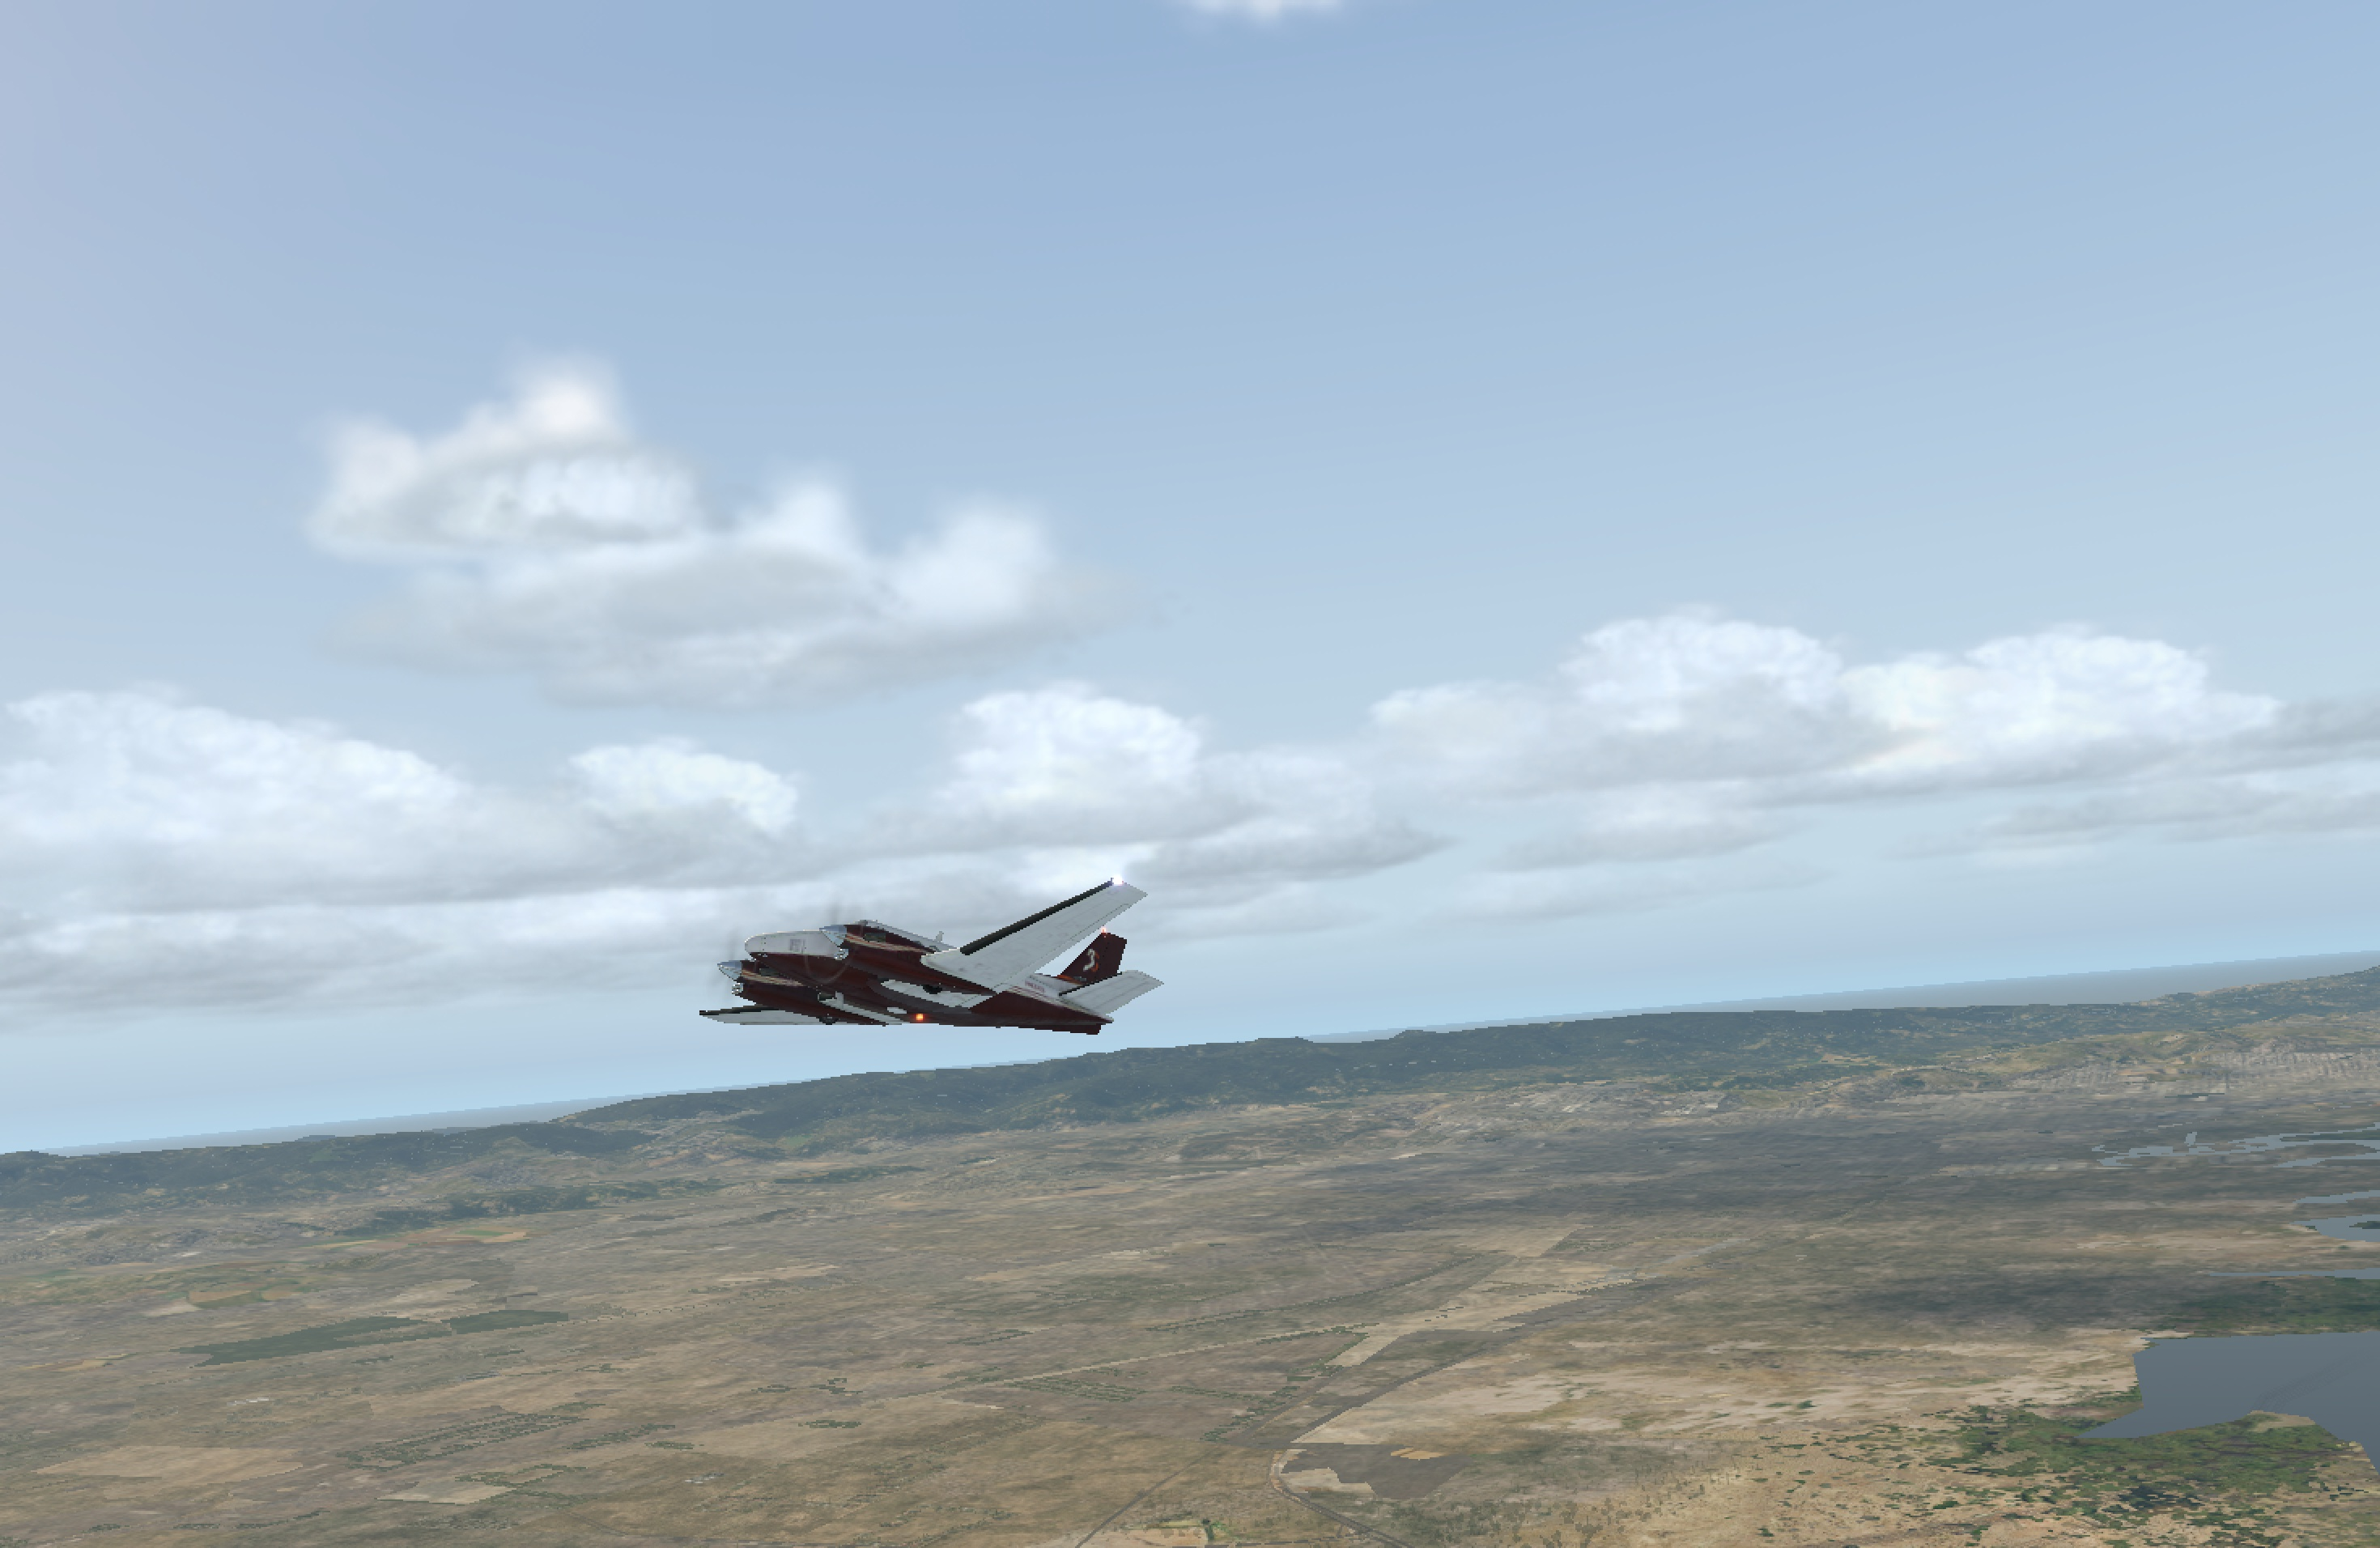aircraft: (529, 868, 1226, 1128)
